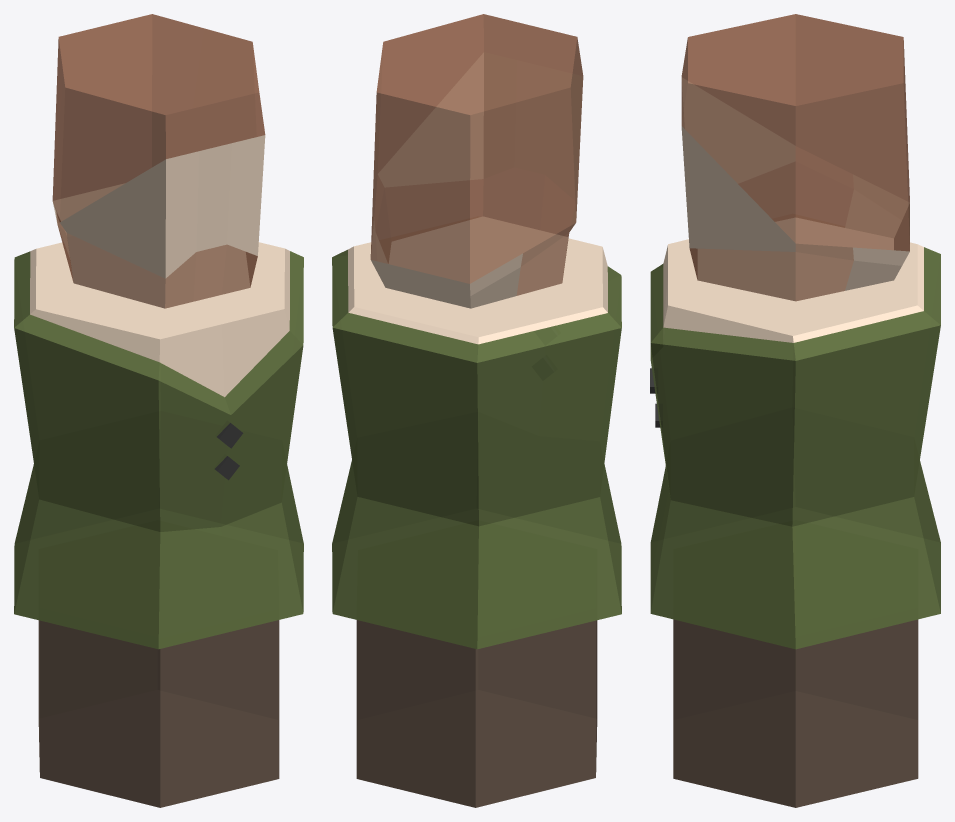
The model's file is Person4Fix.fbx.
3 views of the same model, side by side, from view 1: azimuth 30°, elevation 25°; view 2: azimuth 150°, elevation 25°; view 3: azimuth 270°, elevation 25° (orthographic).
Parts seen in each view (by area): view 1: Person4; view 2: Person4; view 3: Person4.
Part boxes in pixels (box(x1,y1,x2,y2)): Person4: box(14, 14, 303, 807); Person4: box(332, 14, 621, 807); Person4: box(650, 14, 940, 807).
Size of the model in its own units: 46.61 by 105 by 40.24.
